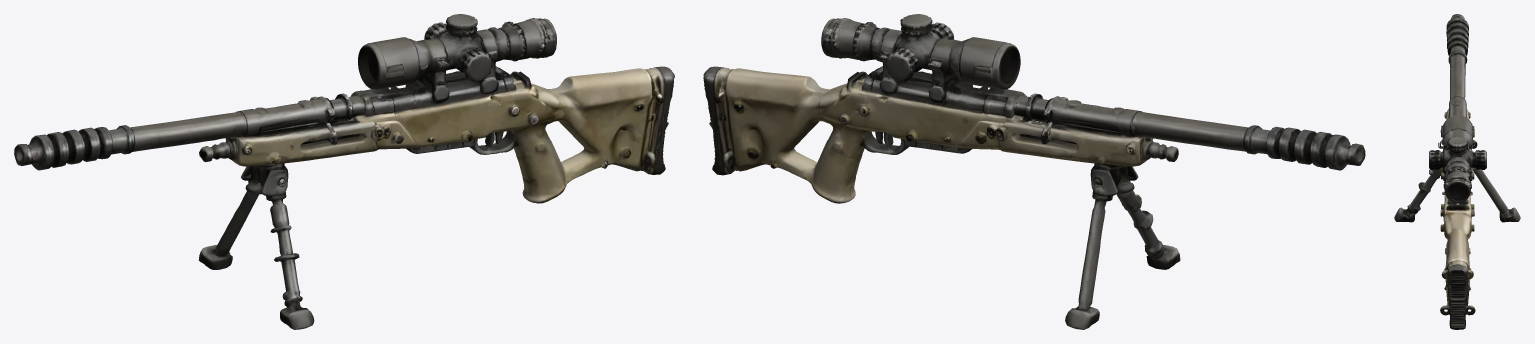
Rendered from rn_anvil50.glb.
The picture shows the model from 3 angles, left to right: view 1: azimuth 30°, elevation 25°; view 2: azimuth 150°, elevation 25°; view 3: azimuth 270°, elevation 25°; orthographic projection. The views are drawn at different scales.
Visible parts, largest first — view 1: tripo_node_5b57ee64-7cb1-478e-9d04-bed2820630e2; view 2: tripo_node_5b57ee64-7cb1-478e-9d04-bed2820630e2; view 3: tripo_node_5b57ee64-7cb1-478e-9d04-bed2820630e2.
Boxes of the visible parts, bbox=[...] form: tripo_node_5b57ee64-7cb1-478e-9d04-bed2820630e2: bbox=[14, 14, 674, 329]; tripo_node_5b57ee64-7cb1-478e-9d04-bed2820630e2: bbox=[703, 14, 1365, 329]; tripo_node_5b57ee64-7cb1-478e-9d04-bed2820630e2: bbox=[1394, 14, 1520, 329].
Size of the model in its own units: 0.9816 by 0.3233 by 0.2562.
1 material, 1 textured.
